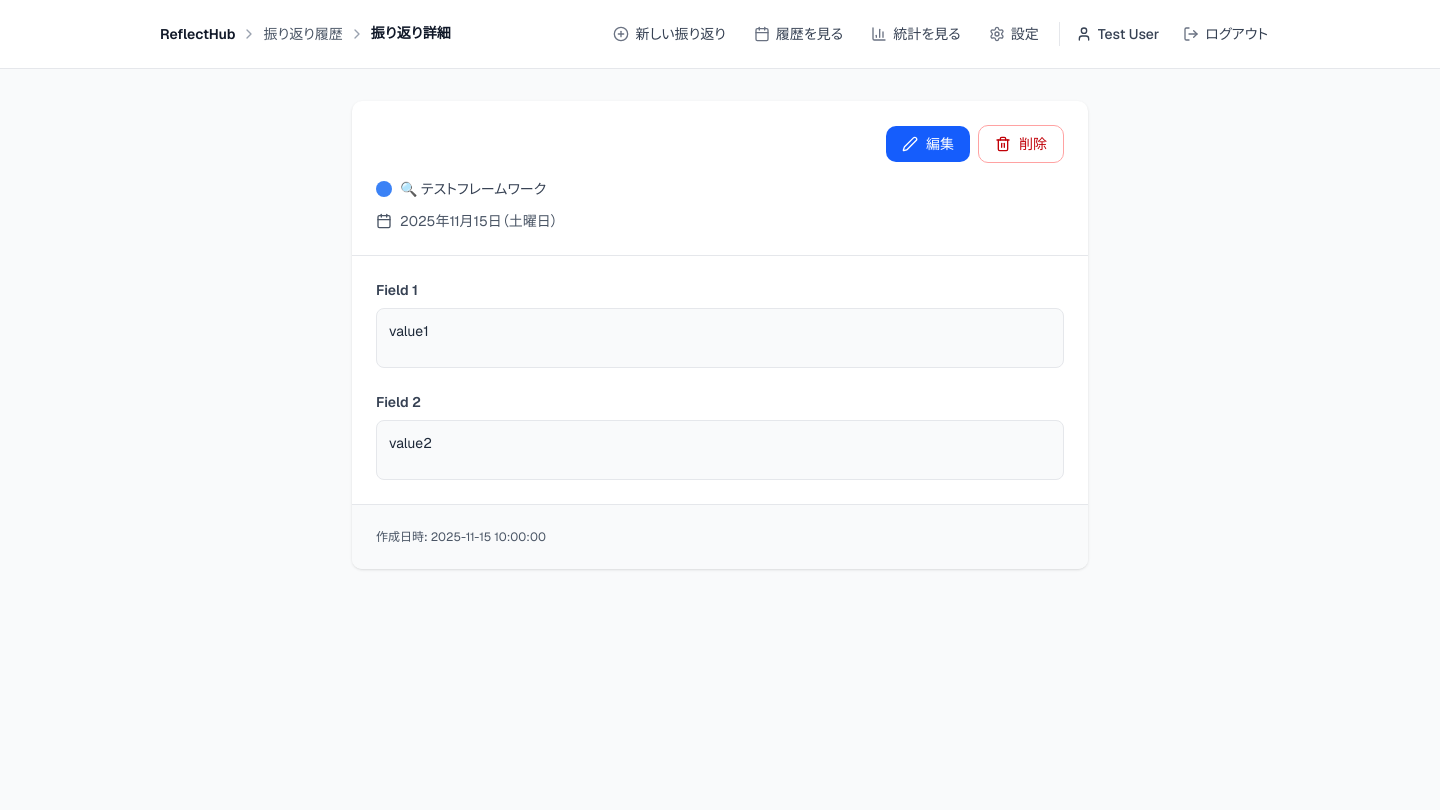
Test: ReflectionDetailPage - Delete Feature › should display error message when delete fails due to permission
Expected: the text "削除" is shown, [1019,134,1047,154]
# Click the first delete button (ReflectionDetail component)
Click the button "削除" at (1021, 144), box [978,125,1064,163]
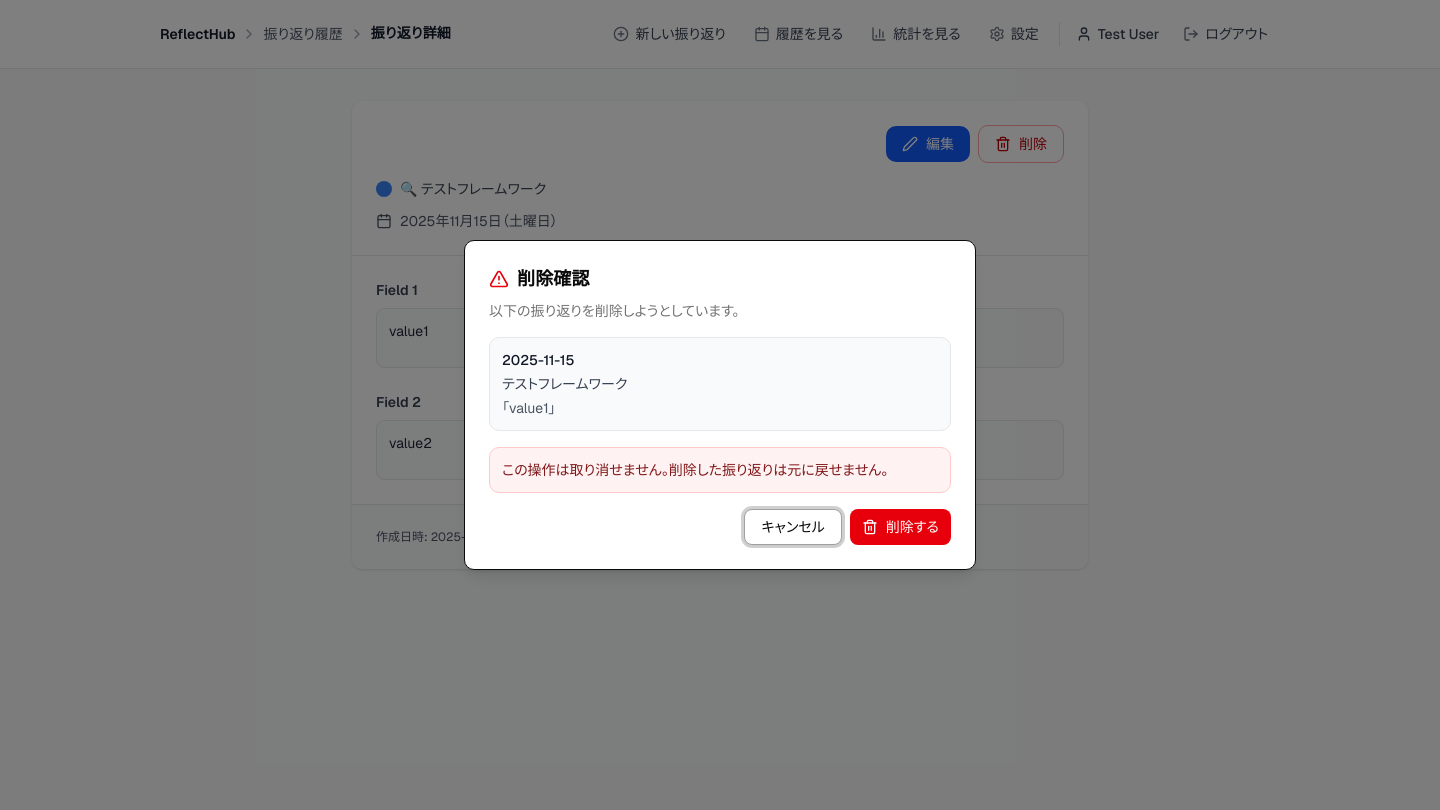
Now the heading "削除確認" is shown, box [489,267,590,290]
# Click the delete button in the confirmation dialog
Click the button "削除する" at (900, 527), box [850,509,951,545]
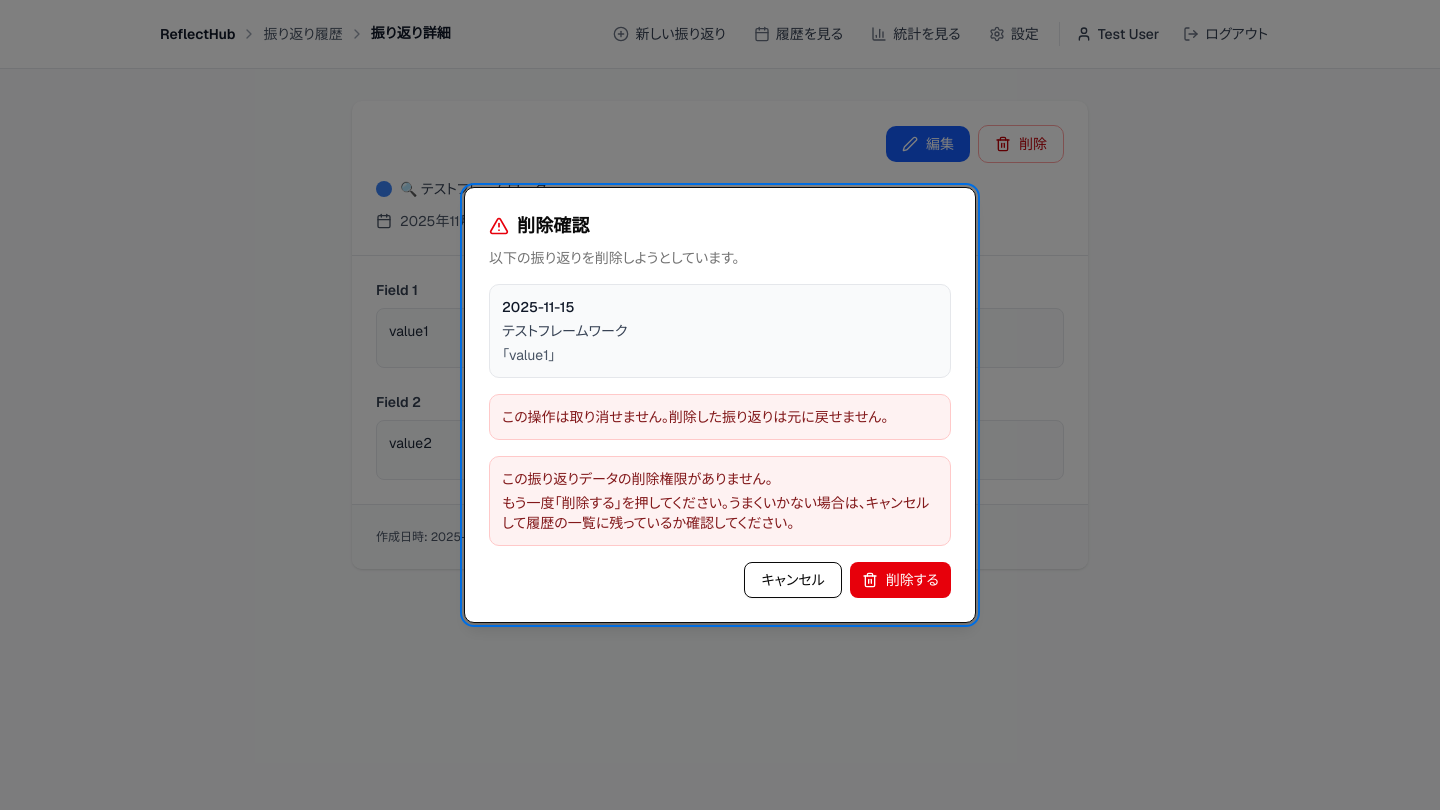
Now the text "この振り返りデータの削除権限がありません。" is shown, box [502,470,772,488]
